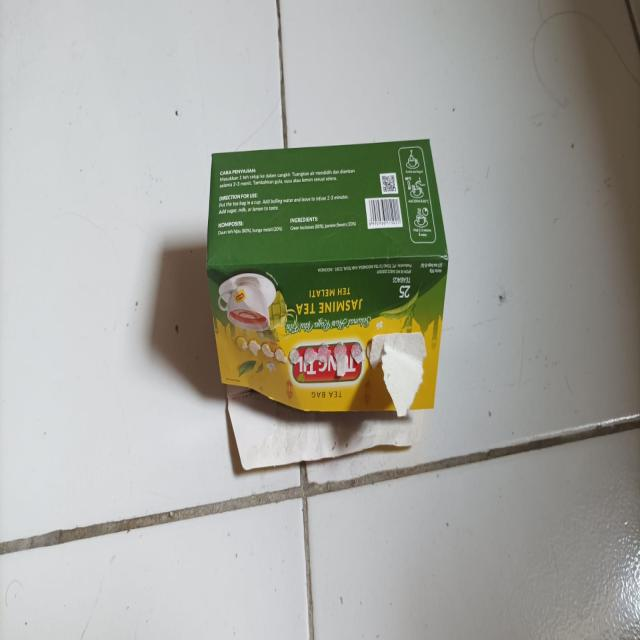Organik: (206, 141, 447, 473)
